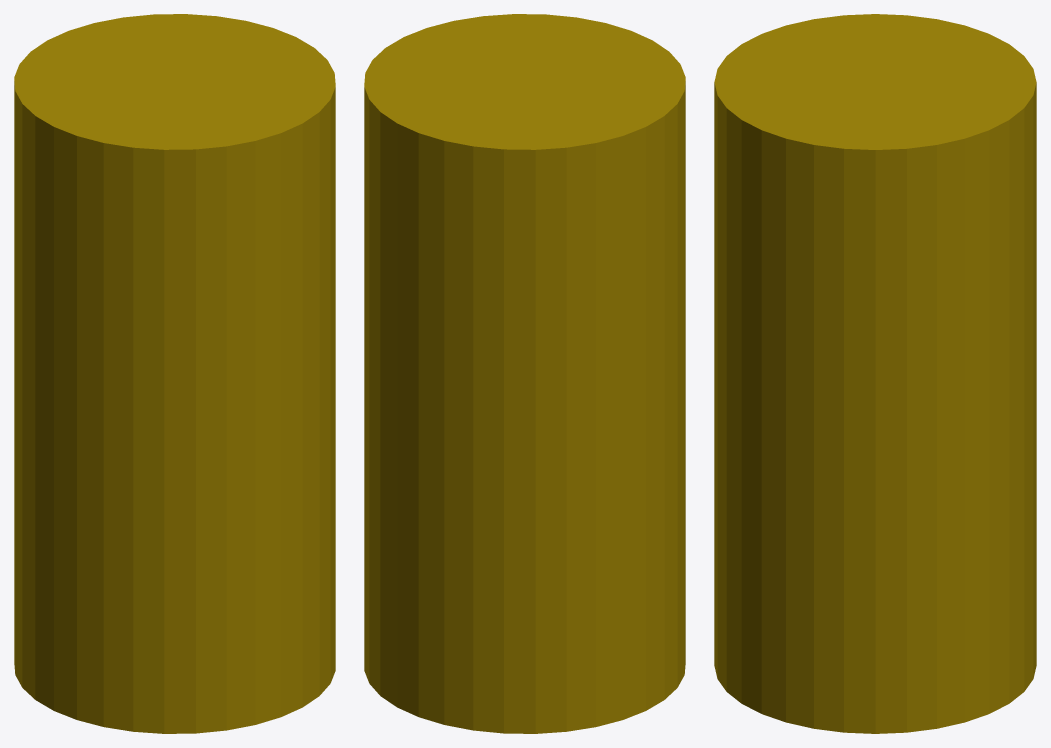
Rendered from buoy.obj.
The picture shows the model from 3 angles, left to right: view 1: azimuth 30°, elevation 25°; view 2: azimuth 150°, elevation 25°; view 3: azimuth 270°, elevation 25°; orthographic projection.
Parts seen in each view (by area): view 1: Cylinder; view 2: Cylinder; view 3: Cylinder.
Part boxes in pixels (x1,y1,x2,y2): Cylinder: (14,14,335,733); Cylinder: (364,14,685,733); Cylinder: (714,14,1036,733).
Size of the model in its own units: 0.5 by 1 by 0.5.
